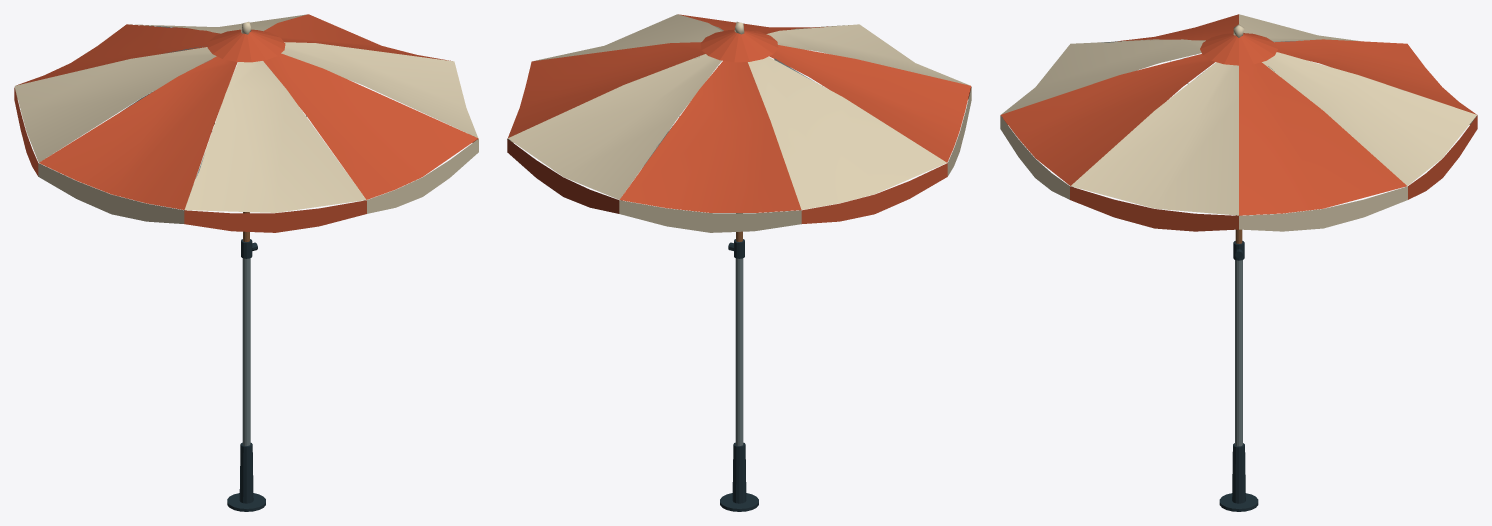
Rendered from beachUmbrellaCoral.glb.
3 views of the same model, side by side, from view 1: azimuth 30°, elevation 25°; view 2: azimuth 150°, elevation 25°; view 3: azimuth 270°, elevation 25° (orthographic).
Parts seen in each view (by area): view 1: beachUmbrellaCoral; view 2: beachUmbrellaCoral; view 3: beachUmbrellaCoral.
Part boxes in pixels (<box>): beachUmbrellaCoral: <box>14,14,478,511</box>; beachUmbrellaCoral: <box>507,14,971,511</box>; beachUmbrellaCoral: <box>1000,14,1477,511</box>.
Size of the model in its own units: 2.2 by 2.43 by 2.2.
